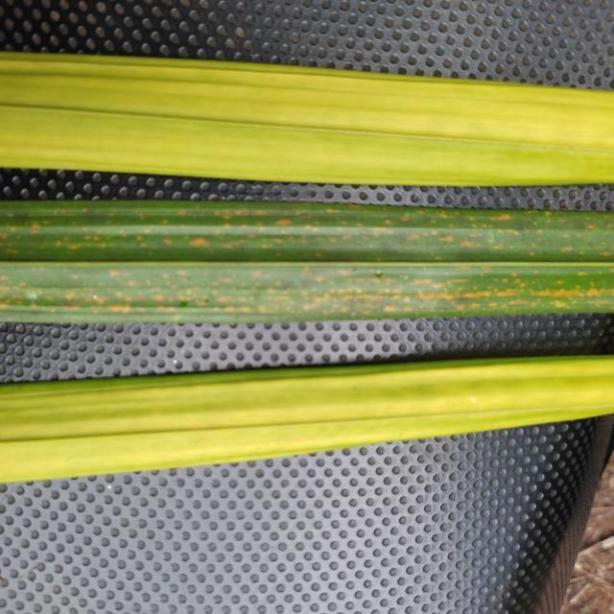nitrogen: (0, 38, 614, 189), (0, 353, 614, 486), (1, 196, 614, 321)
